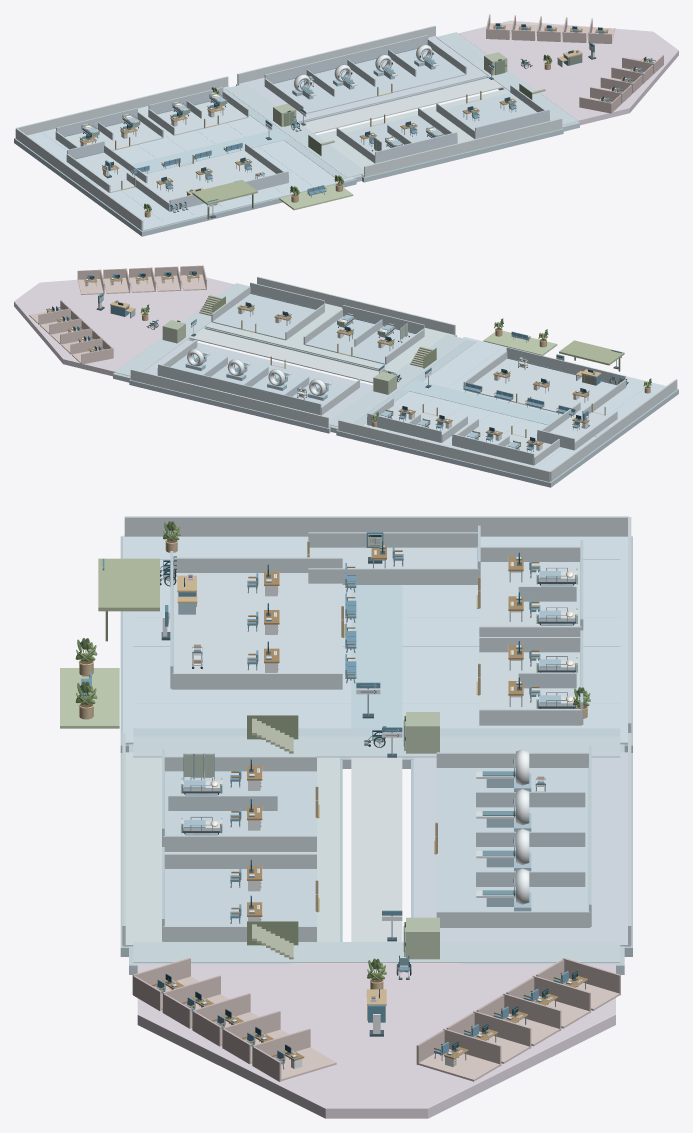
File: hospital-spatial-study-example.glb
3 renders of one model, top to bottom at view 1: azimuth 30°, elevation 25°; view 2: azimuth 150°, elevation 25°; view 3: azimuth 270°, elevation 25°, orthographic. The views are drawn at different scales.
Parts seen in each view (by area): view 1: 1F — Welcome & outpatient care, Schematic room floor (×7), Ward A schematic polygonal footprint, Outpatient clinic, Rear partition (×7), Side partition (×7), Cross-building passage, Outpatient floor plate, Central Clinical Building 2 plate, Entrance canopy, Concept outdoor activity area, Ward A concept room S1 (+10 smaller); view 2: 1F — Welcome & outpatient care, Schematic room floor (×7), Ward A schematic polygonal footprint, Outpatient clinic, Rear partition (×7), Side partition (×8), Cross-building passage, Outpatient floor plate, Central Clinical Building 1 plate, Schematic lift enclosure (×2), Entrance canopy, Concept outdoor activity area (+11 smaller); view 3: 1F — Welcome & outpatient care, Schematic room floor (×7), Outpatient clinic, Ward A schematic polygonal footprint, Side partition (×14), Cross-building passage, Illustrative subdivision (×6), Entrance canopy, Concept outdoor activity area, Schematic lift enclosure (×2), Ward A concept room N5, Ward A concept room S5 (+12 smaller).
Part boxes in pixels (box(x1,y1,x2,y2)): 1F — Welcome & outpatient care: box(15, 25, 578, 230); Schematic room floor (×7): box(65, 49, 536, 211); Ward A schematic polygonal footprint: box(459, 20, 678, 125); Outpatient clinic: box(16, 86, 354, 231); Rear partition (×7): box(56, 35, 549, 211); Side partition (×7): box(66, 39, 475, 211); Cross-building passage: box(304, 78, 503, 133); Outpatient floor plate: box(14, 86, 356, 236); Central Clinical Building 2 plate: box(362, 128, 563, 182); Entrance canopy: box(192, 180, 257, 205); Concept outdoor activity area: box(279, 184, 353, 210); Ward A concept room S1: box(579, 94, 621, 113); 1F — Welcome & outpatient care: box(114, 276, 677, 481); Schematic room floor (×7): box(171, 294, 616, 465); Ward A schematic polygonal footprint: box(14, 272, 233, 376); Outpatient clinic: box(338, 337, 676, 482); Rear partition (×7): box(158, 282, 625, 465); Side partition (×8): box(211, 286, 625, 449); Cross-building passage: box(189, 328, 378, 383); Outpatient floor plate: box(336, 337, 678, 487); Central Clinical Building 1 plate: box(129, 379, 330, 433); Schematic lift enclosure (×2): box(162, 320, 396, 394); Entrance canopy: box(559, 340, 624, 365); Concept outdoor activity area: box(483, 330, 557, 355); 1F — Welcome & outpatient care: box(105, 516, 631, 962); Schematic room floor (×7): box(165, 547, 588, 925); Outpatient clinic: box(123, 535, 627, 744); Ward A schematic polygonal footprint: box(137, 963, 615, 1118); Side partition (×14): box(163, 532, 590, 941); Cross-building passage: box(351, 757, 402, 941); Illustrative subdivision (×6): box(168, 586, 585, 886); Entrance canopy: box(98, 558, 159, 611); Concept outdoor activity area: box(60, 668, 119, 728); Schematic lift enclosure (×2): box(406, 712, 439, 959); Ward A concept room N5: box(416, 1028, 501, 1081); Ward A concept room S5: box(252, 1028, 336, 1081).
Bounding box in the file's own units: 79.5 × 3.18 × 33.55.
